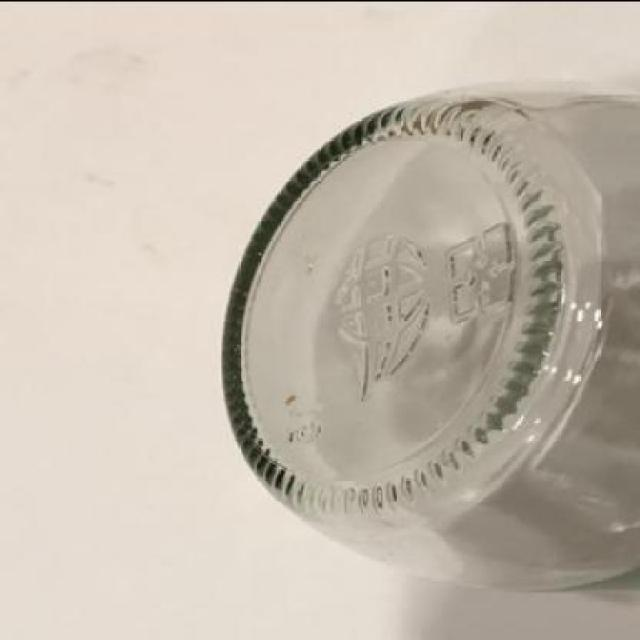GLASS: (222, 82, 638, 590)
